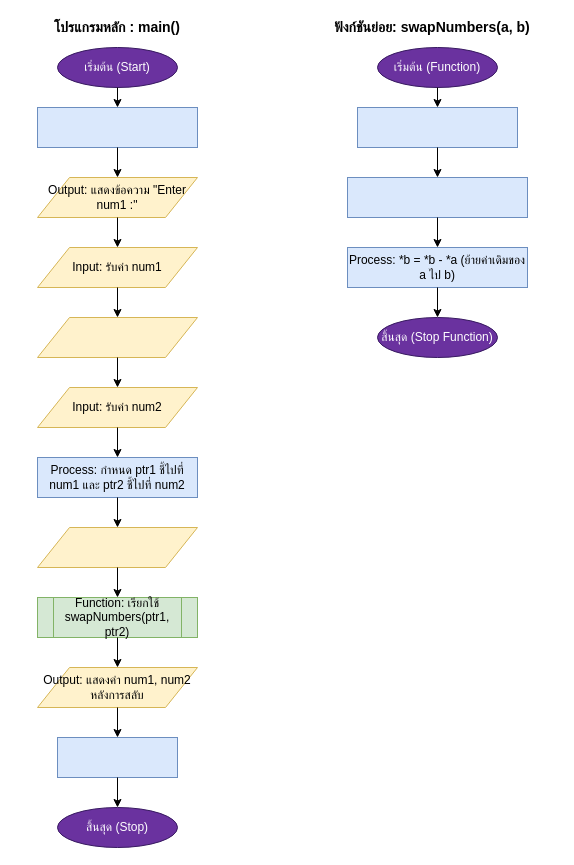
This 574x865 diagram has some shape labels left out. The centre of each missing label's shape, as x and y in pixels:
Output: แสดงข้อความ "Enter num2 :": [117,337]
Output: แสดงค่า num1, num2 ก่อนการสลับ: [117,547]
Process: *a = *b - *a (ย้ายค่าเดิมของ b ไป a): [437,197]
Process: *b = *a + *b (หาผลรวม): [437,127]
Process: คืนค่า 0: [117,757]
Process: ประกาศตัวแปร num1, num2 (ชนิดจำนวนเต็ม): [117,127]
